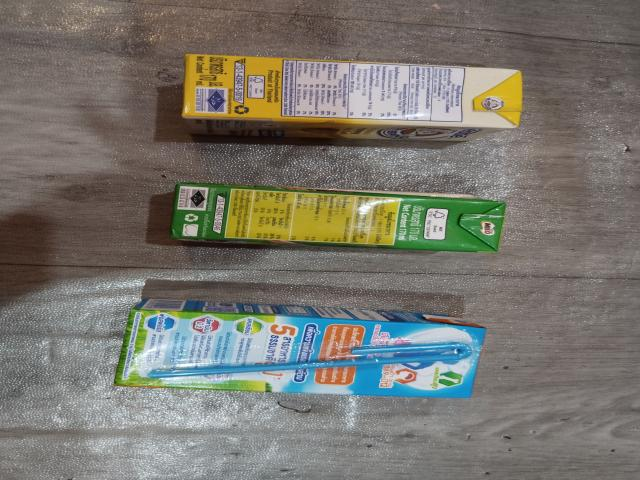drink_box: (107, 296, 495, 408), (163, 47, 547, 145), (149, 178, 527, 260)
